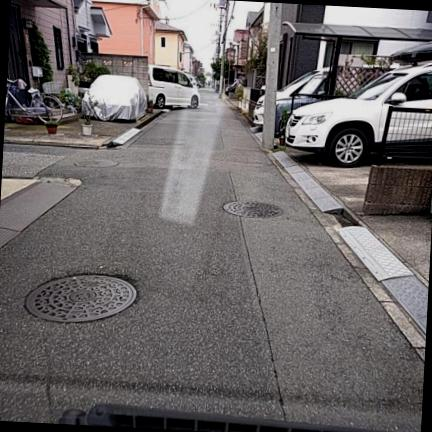Road: (0, 91, 424, 431)
